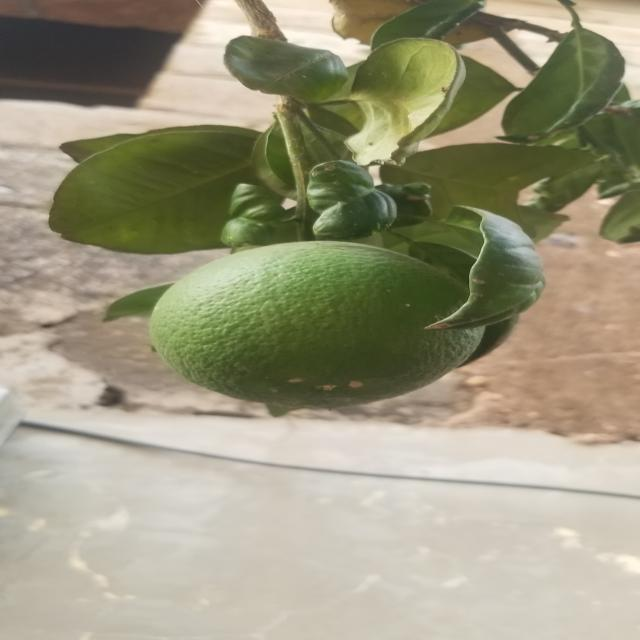Unripe: (131, 232, 493, 425)
